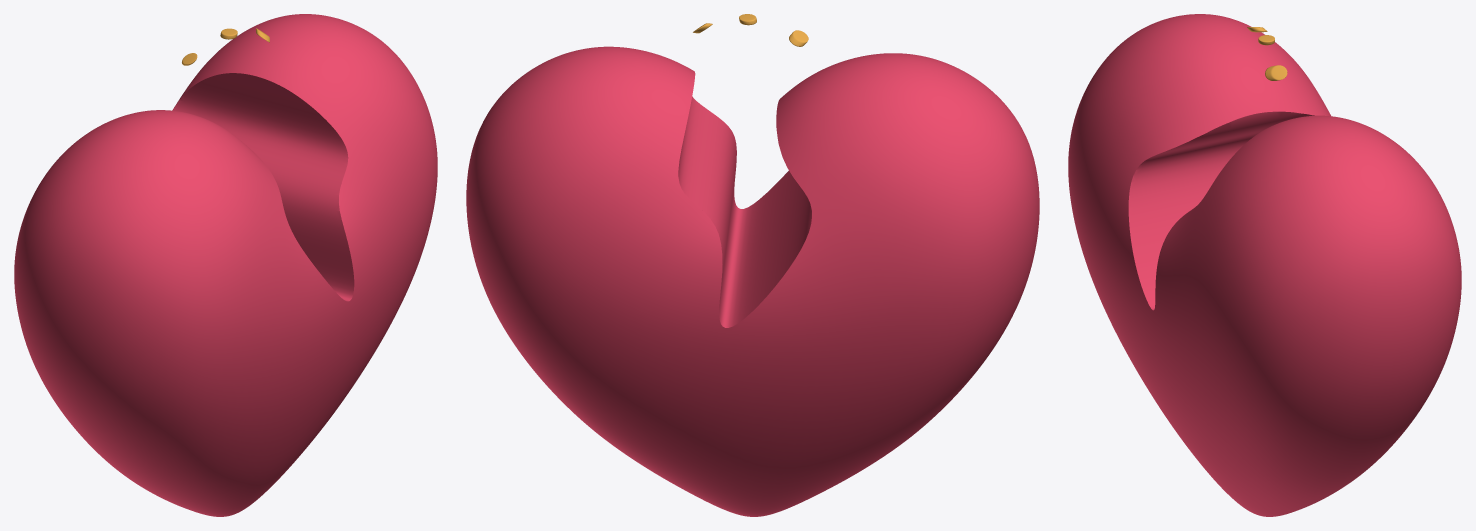
Rendered from broken-heart-3d-animated-icon-504577300315.glb.
The picture shows the model from 3 angles, left to right: view 1: azimuth 30°, elevation 25°; view 2: azimuth 150°, elevation 25°; view 3: azimuth 270°, elevation 25°; orthographic projection. The views are drawn at different scales.
Parts seen in each view (by area): view 1: heart.002; view 2: heart.002; view 3: heart.002.
Boxes of the visible parts, bbox=[...] form: heart.002: bbox=[14, 14, 437, 516]; heart.002: bbox=[466, 46, 1039, 516]; heart.002: bbox=[1068, 14, 1461, 516].
Size of what is drawn, in the model's own units: 2.39 by 2.42 by 1.81.
